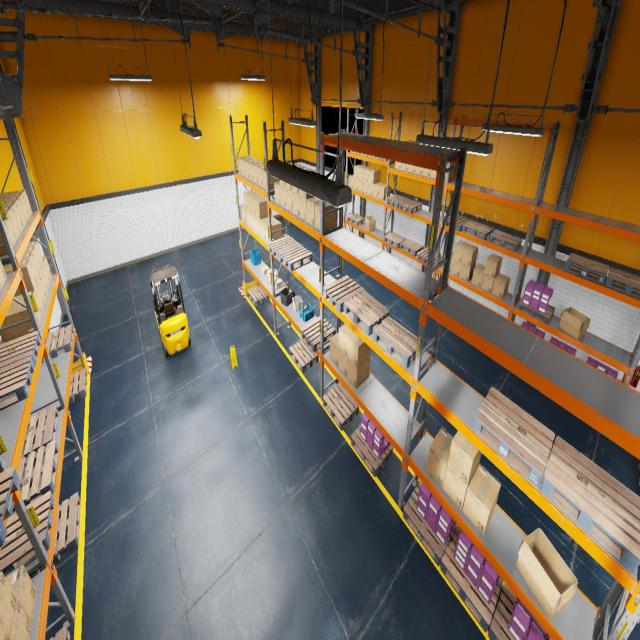box: (516, 527, 578, 620), (462, 464, 501, 535), (448, 431, 482, 486), (6, 565, 36, 624), (426, 428, 453, 488), (0, 302, 40, 342), (443, 465, 478, 510), (3, 260, 37, 296), (0, 571, 17, 638), (2, 253, 40, 282), (10, 290, 42, 322), (559, 307, 590, 340), (0, 193, 30, 222), (347, 332, 371, 368), (0, 190, 32, 216), (12, 600, 32, 639), (1, 197, 26, 227), (347, 357, 370, 388), (315, 202, 337, 231), (3, 202, 24, 232), (299, 170, 320, 199), (338, 323, 354, 358), (292, 167, 312, 195), (4, 207, 21, 239), (285, 165, 305, 191), (491, 273, 510, 299), (24, 247, 42, 274), (27, 240, 44, 268), (0, 220, 13, 256), (280, 162, 298, 188), (484, 253, 502, 278), (5, 212, 17, 246), (306, 197, 320, 226), (264, 220, 282, 242), (461, 244, 478, 267), (262, 168, 279, 190), (260, 216, 276, 239), (255, 198, 271, 220), (452, 240, 468, 262), (459, 262, 476, 282), (471, 264, 485, 288), (481, 274, 498, 293), (244, 159, 260, 179), (241, 157, 256, 177), (249, 161, 263, 181), (238, 155, 252, 175), (252, 162, 264, 185), (251, 195, 264, 216), (247, 192, 260, 213), (330, 333, 338, 367), (35, 283, 44, 313), (338, 348, 347, 378), (42, 256, 52, 282), (244, 190, 256, 210), (38, 276, 46, 304), (40, 268, 48, 296), (0, 620, 11, 640), (42, 262, 50, 288), (0, 258, 7, 287), (292, 192, 300, 217), (443, 252, 453, 272), (444, 162, 454, 182), (378, 184, 390, 200), (372, 182, 384, 198), (299, 196, 306, 222), (364, 216, 376, 231), (451, 259, 461, 277), (368, 169, 380, 184), (363, 167, 375, 182), (257, 165, 264, 188), (358, 166, 369, 180), (286, 189, 292, 213), (274, 181, 280, 205), (280, 186, 286, 209), (354, 165, 364, 178), (252, 213, 257, 232), (256, 217, 261, 235), (248, 210, 253, 228), (274, 278, 282, 288), (362, 181, 368, 194), (269, 276, 277, 285), (241, 204, 245, 222), (414, 166, 422, 175), (422, 168, 430, 177), (245, 208, 249, 225), (368, 182, 373, 195), (270, 269, 277, 278), (408, 164, 415, 173), (353, 178, 358, 190), (262, 266, 269, 274), (267, 269, 275, 276), (401, 163, 408, 171), (395, 161, 401, 170), (349, 175, 353, 188), (358, 180, 362, 192), (430, 170, 436, 178), (0, 283, 2, 290)
forklift: (150, 264, 191, 358)
pallets: (540, 436, 640, 574), (472, 387, 555, 487), (440, 525, 503, 632), (402, 480, 457, 566), (0, 491, 55, 576), (29, 492, 80, 579), (12, 440, 59, 512), (488, 582, 546, 639), (372, 316, 418, 368), (21, 405, 58, 465), (351, 425, 393, 476), (344, 290, 389, 336), (0, 356, 35, 410), (323, 382, 359, 430), (0, 466, 20, 546), (323, 275, 364, 313), (0, 331, 41, 368), (564, 253, 609, 284), (300, 316, 336, 352), (41, 324, 74, 363), (604, 267, 640, 298), (517, 296, 555, 324), (289, 339, 319, 372), (279, 244, 312, 272), (268, 235, 299, 260), (489, 230, 522, 252), (69, 368, 87, 405), (462, 220, 494, 240), (248, 285, 270, 306), (444, 215, 471, 231), (399, 239, 424, 256), (416, 247, 441, 264), (384, 232, 406, 248), (398, 199, 422, 213), (385, 194, 408, 208), (49, 626, 70, 639), (347, 213, 365, 226), (429, 291, 435, 298), (434, 294, 439, 299)
